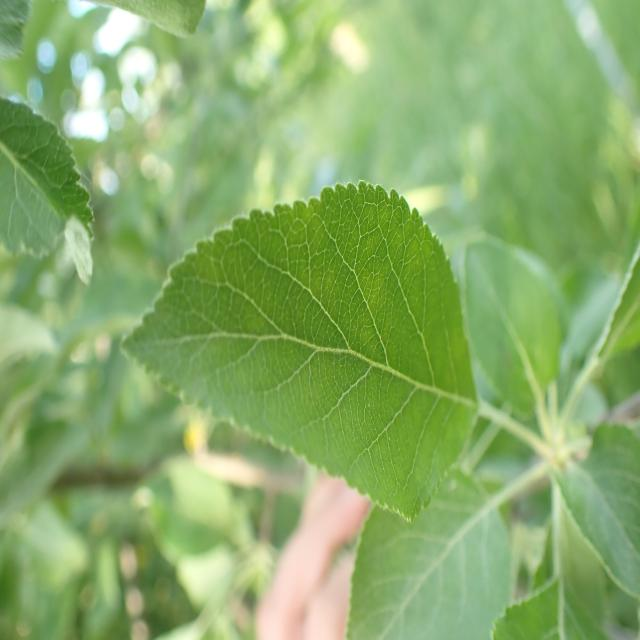healthy: (120, 180, 478, 522), (345, 464, 515, 640), (0, 97, 96, 288), (556, 418, 640, 598)
